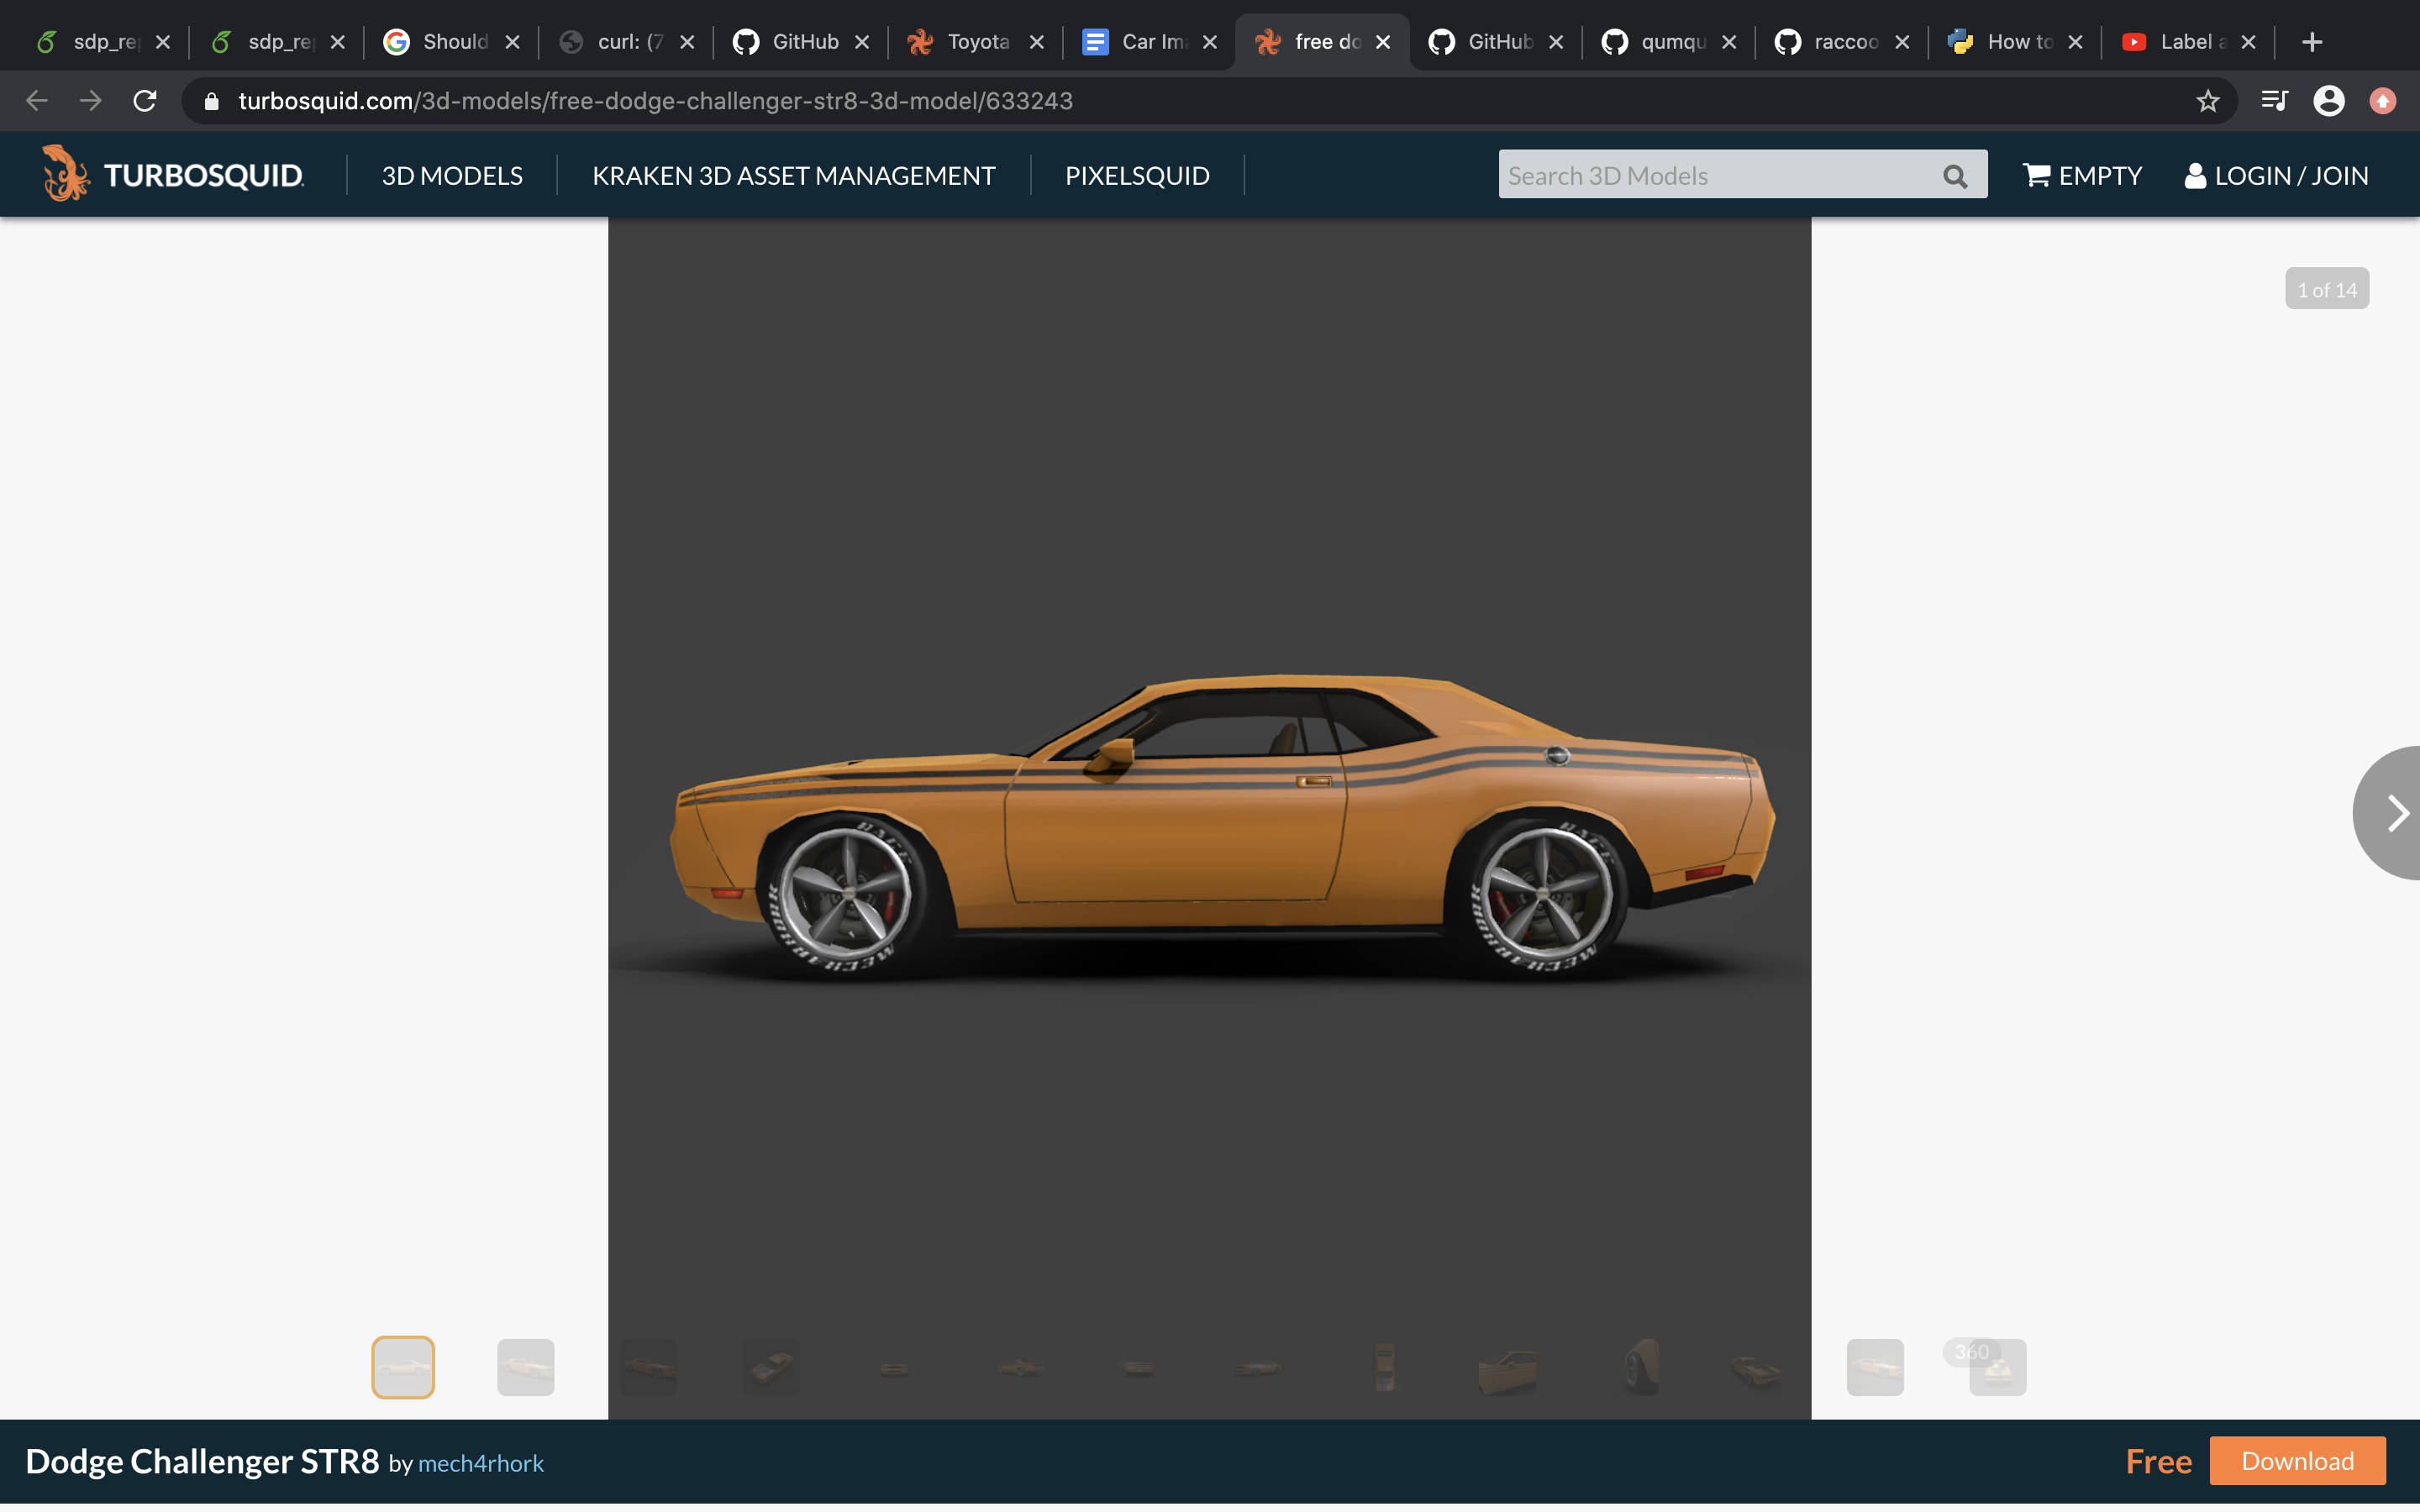hatch: (1542, 744, 1572, 768)
